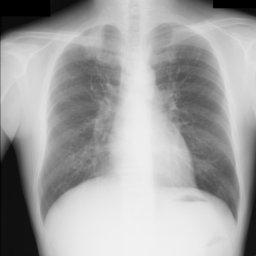left lobe: (152, 25, 240, 216)
right lobe: (41, 26, 121, 216)
